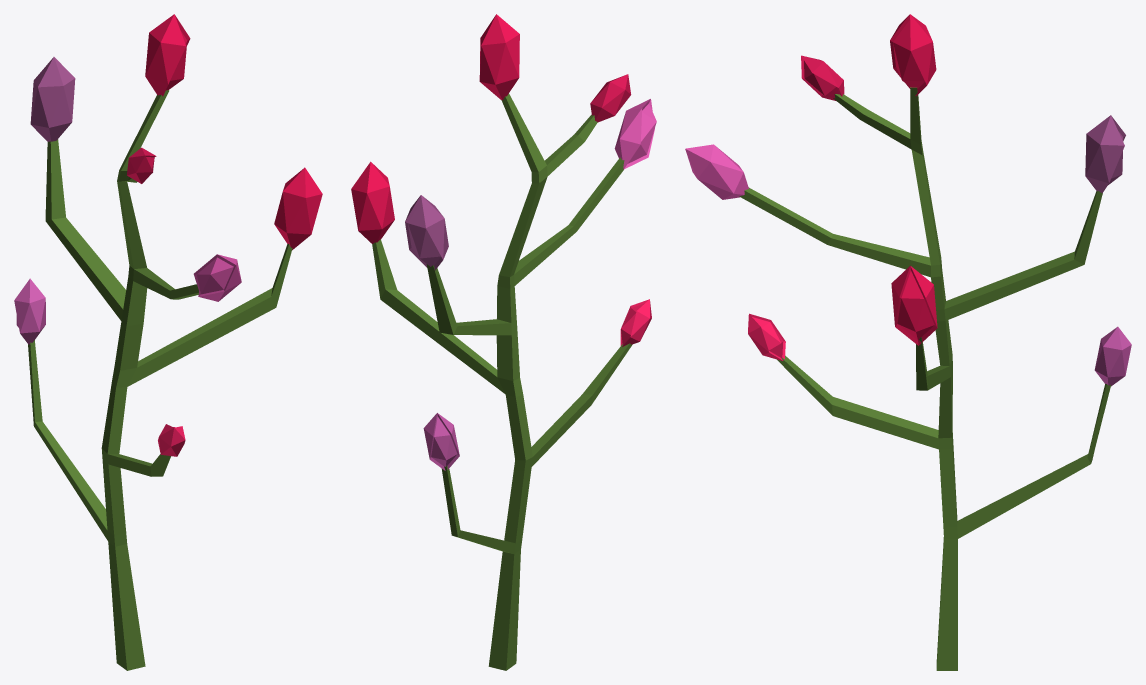
File: Plant_04.glb
The picture shows the model from 3 angles, left to right: view 1: azimuth 30°, elevation 25°; view 2: azimuth 150°, elevation 25°; view 3: azimuth 270°, elevation 25°; orthographic projection. The views are drawn at different scales.
Visible parts, largest first — view 1: Plant_04; view 2: Plant_04; view 3: Plant_04.
Boxes of the visible parts, bbox=[...] form: Plant_04: bbox=[14, 14, 322, 670]; Plant_04: bbox=[351, 14, 656, 670]; Plant_04: bbox=[685, 14, 1131, 670].
Bounding box in the file's own units: 0.5165 × 1.39 × 0.8479.
1 material, 1 textured.
